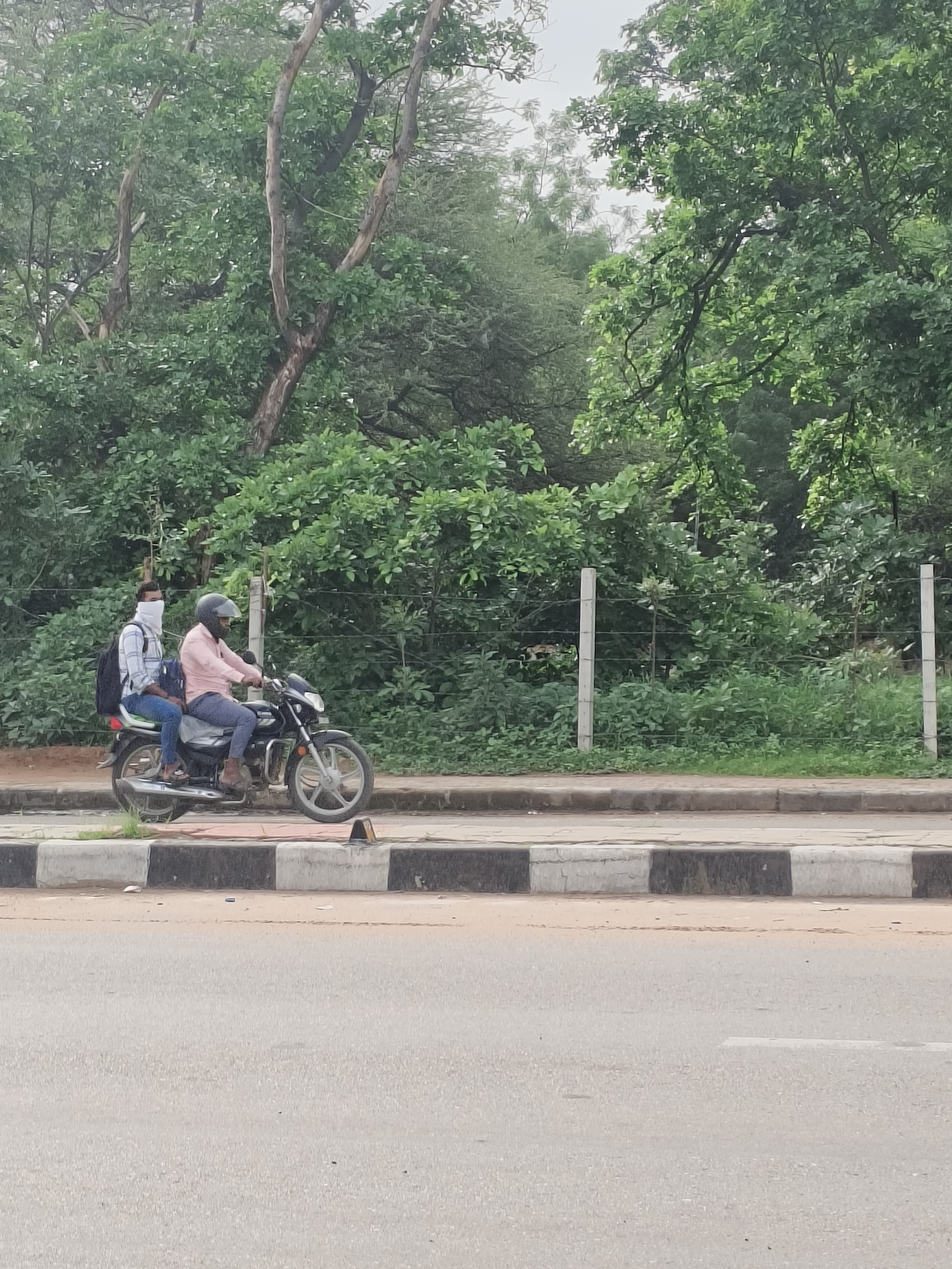BikeWithRider: (85, 577, 385, 833)
Helmet: (188, 586, 245, 641)
NoHelmet: (129, 578, 172, 629)
